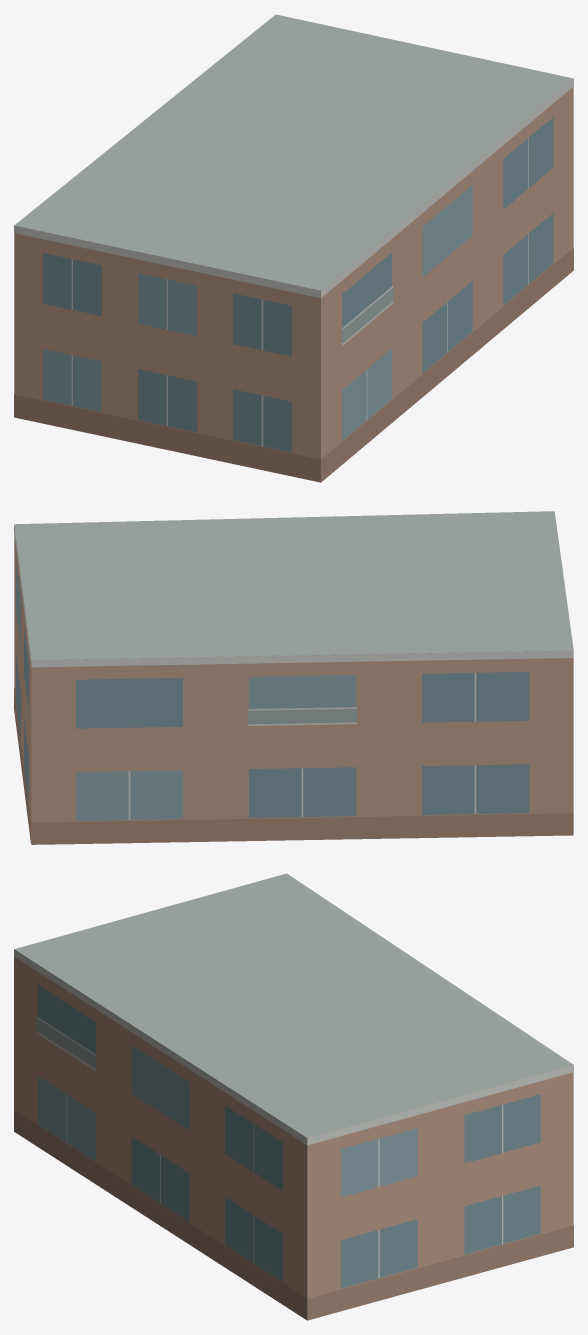
The model's file is survey-upis-32836902.glb.
The picture shows the model from 3 angles, top to bottom: view 1: azimuth 30°, elevation 25°; view 2: azimuth 150°, elevation 25°; view 3: azimuth 270°, elevation 25°; orthographic projection. The views are drawn at different scales.
Visible parts, largest first — view 1: survey-upis-32836902.tmp; view 2: survey-upis-32836902.tmp; view 3: survey-upis-32836902.tmp.
Boxes of the visible parts, <box> form: survey-upis-32836902.tmp: <box>14,14,573,482</box>; survey-upis-32836902.tmp: <box>14,511,573,844</box>; survey-upis-32836902.tmp: <box>14,873,573,1320</box>.
Size of the model in its own units: 18.99 by 6.1 by 16.97.
